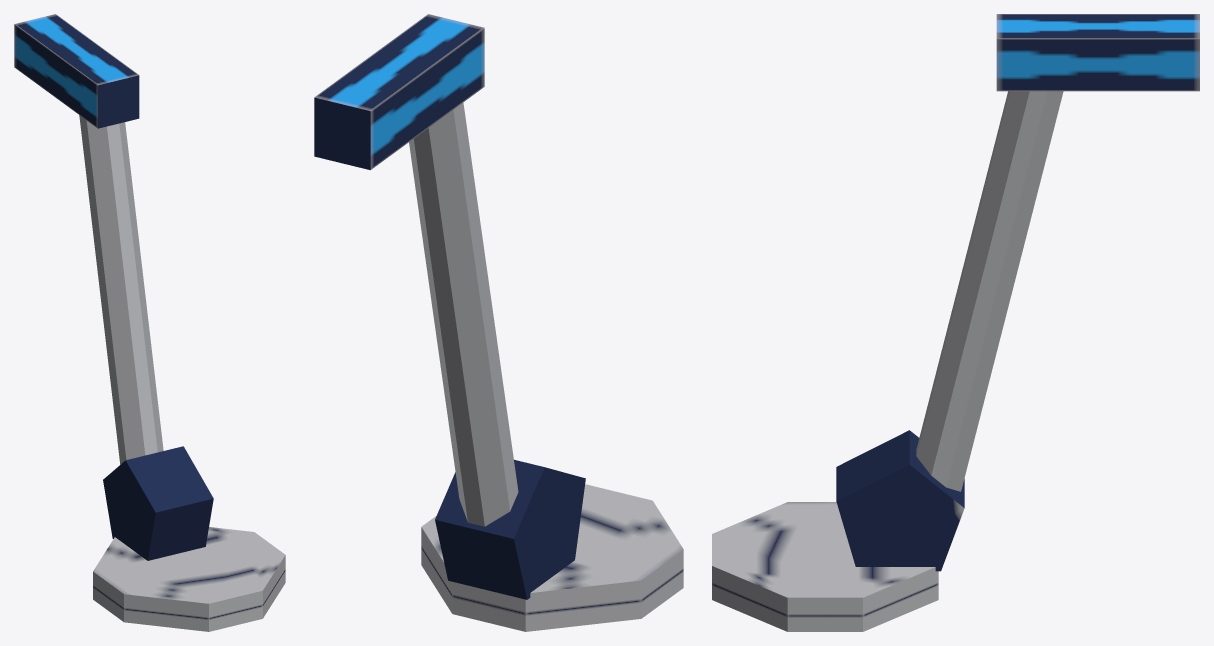
Rendered from detector.obj.
The picture shows the model from 3 angles, left to right: view 1: azimuth 30°, elevation 25°; view 2: azimuth 150°, elevation 25°; view 3: azimuth 270°, elevation 25°; orthographic projection. The views are drawn at different scales.
Parts seen in each view (by area): view 1: detector; view 2: detector; view 3: detector.
Part boxes in pixels (<box>): detector: <box>14,14,285,631</box>; detector: <box>314,14,683,631</box>; detector: <box>712,14,1199,631</box>.
Bounding box in the file's own units: 1.95 × 5.3 × 4.2.
1 material, 1 textured.
